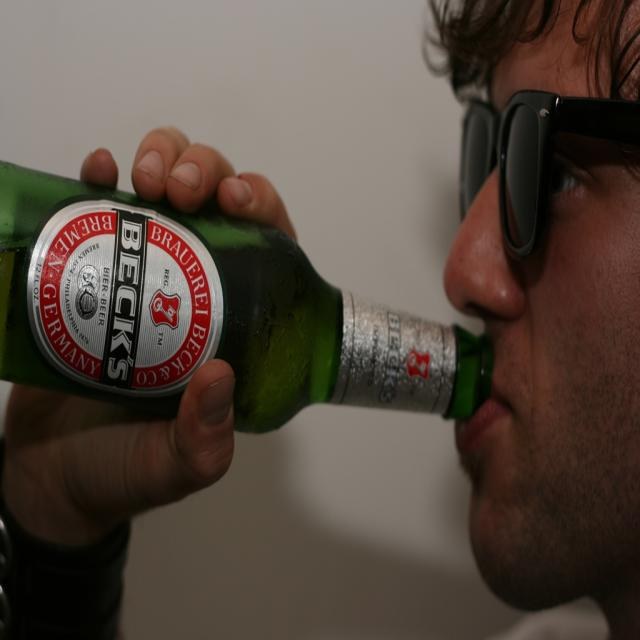becks: (28, 201, 226, 395)
